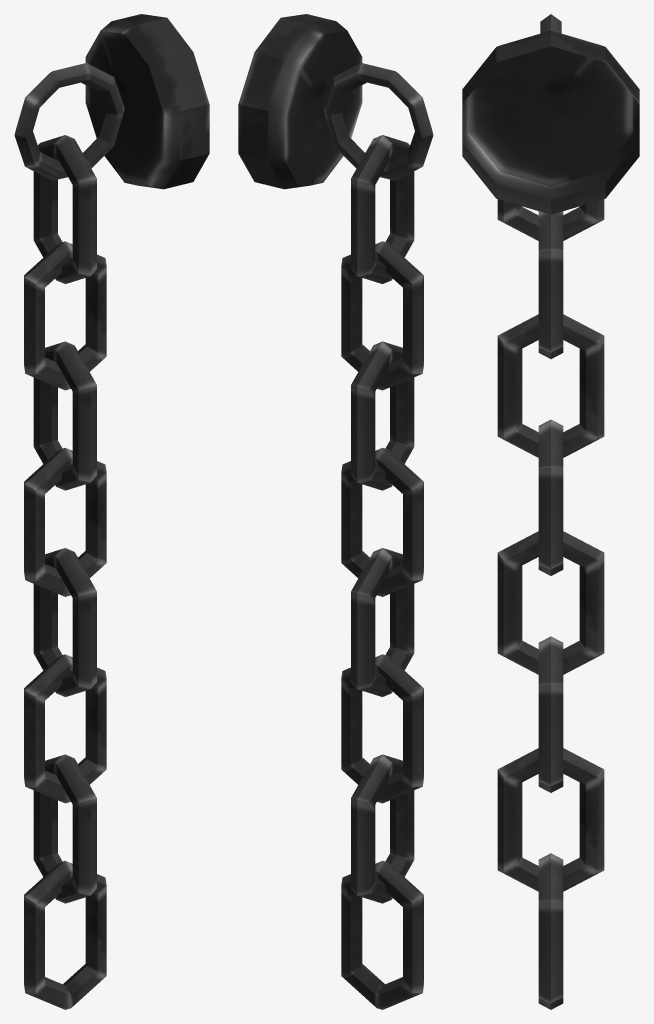
The model's file is SM_chainWall.fbx.
3 views of the same model, side by side, from view 1: azimuth 30°, elevation 25°; view 2: azimuth 150°, elevation 25°; view 3: azimuth 270°, elevation 25° (orthographic). The views are drawn at different scales.
Parts seen in each view (by area): view 1: SM_chainWall; view 2: SM_chainWall; view 3: SM_chainWall.
Boxes of the visible parts, x1,y1,x2,y2 form: SM_chainWall: [14, 14, 209, 1009]; SM_chainWall: [238, 14, 433, 1009]; SM_chainWall: [462, 14, 639, 1009].
Bounding box in the file's own units: 0.3011 × 1.82 × 0.2874.
